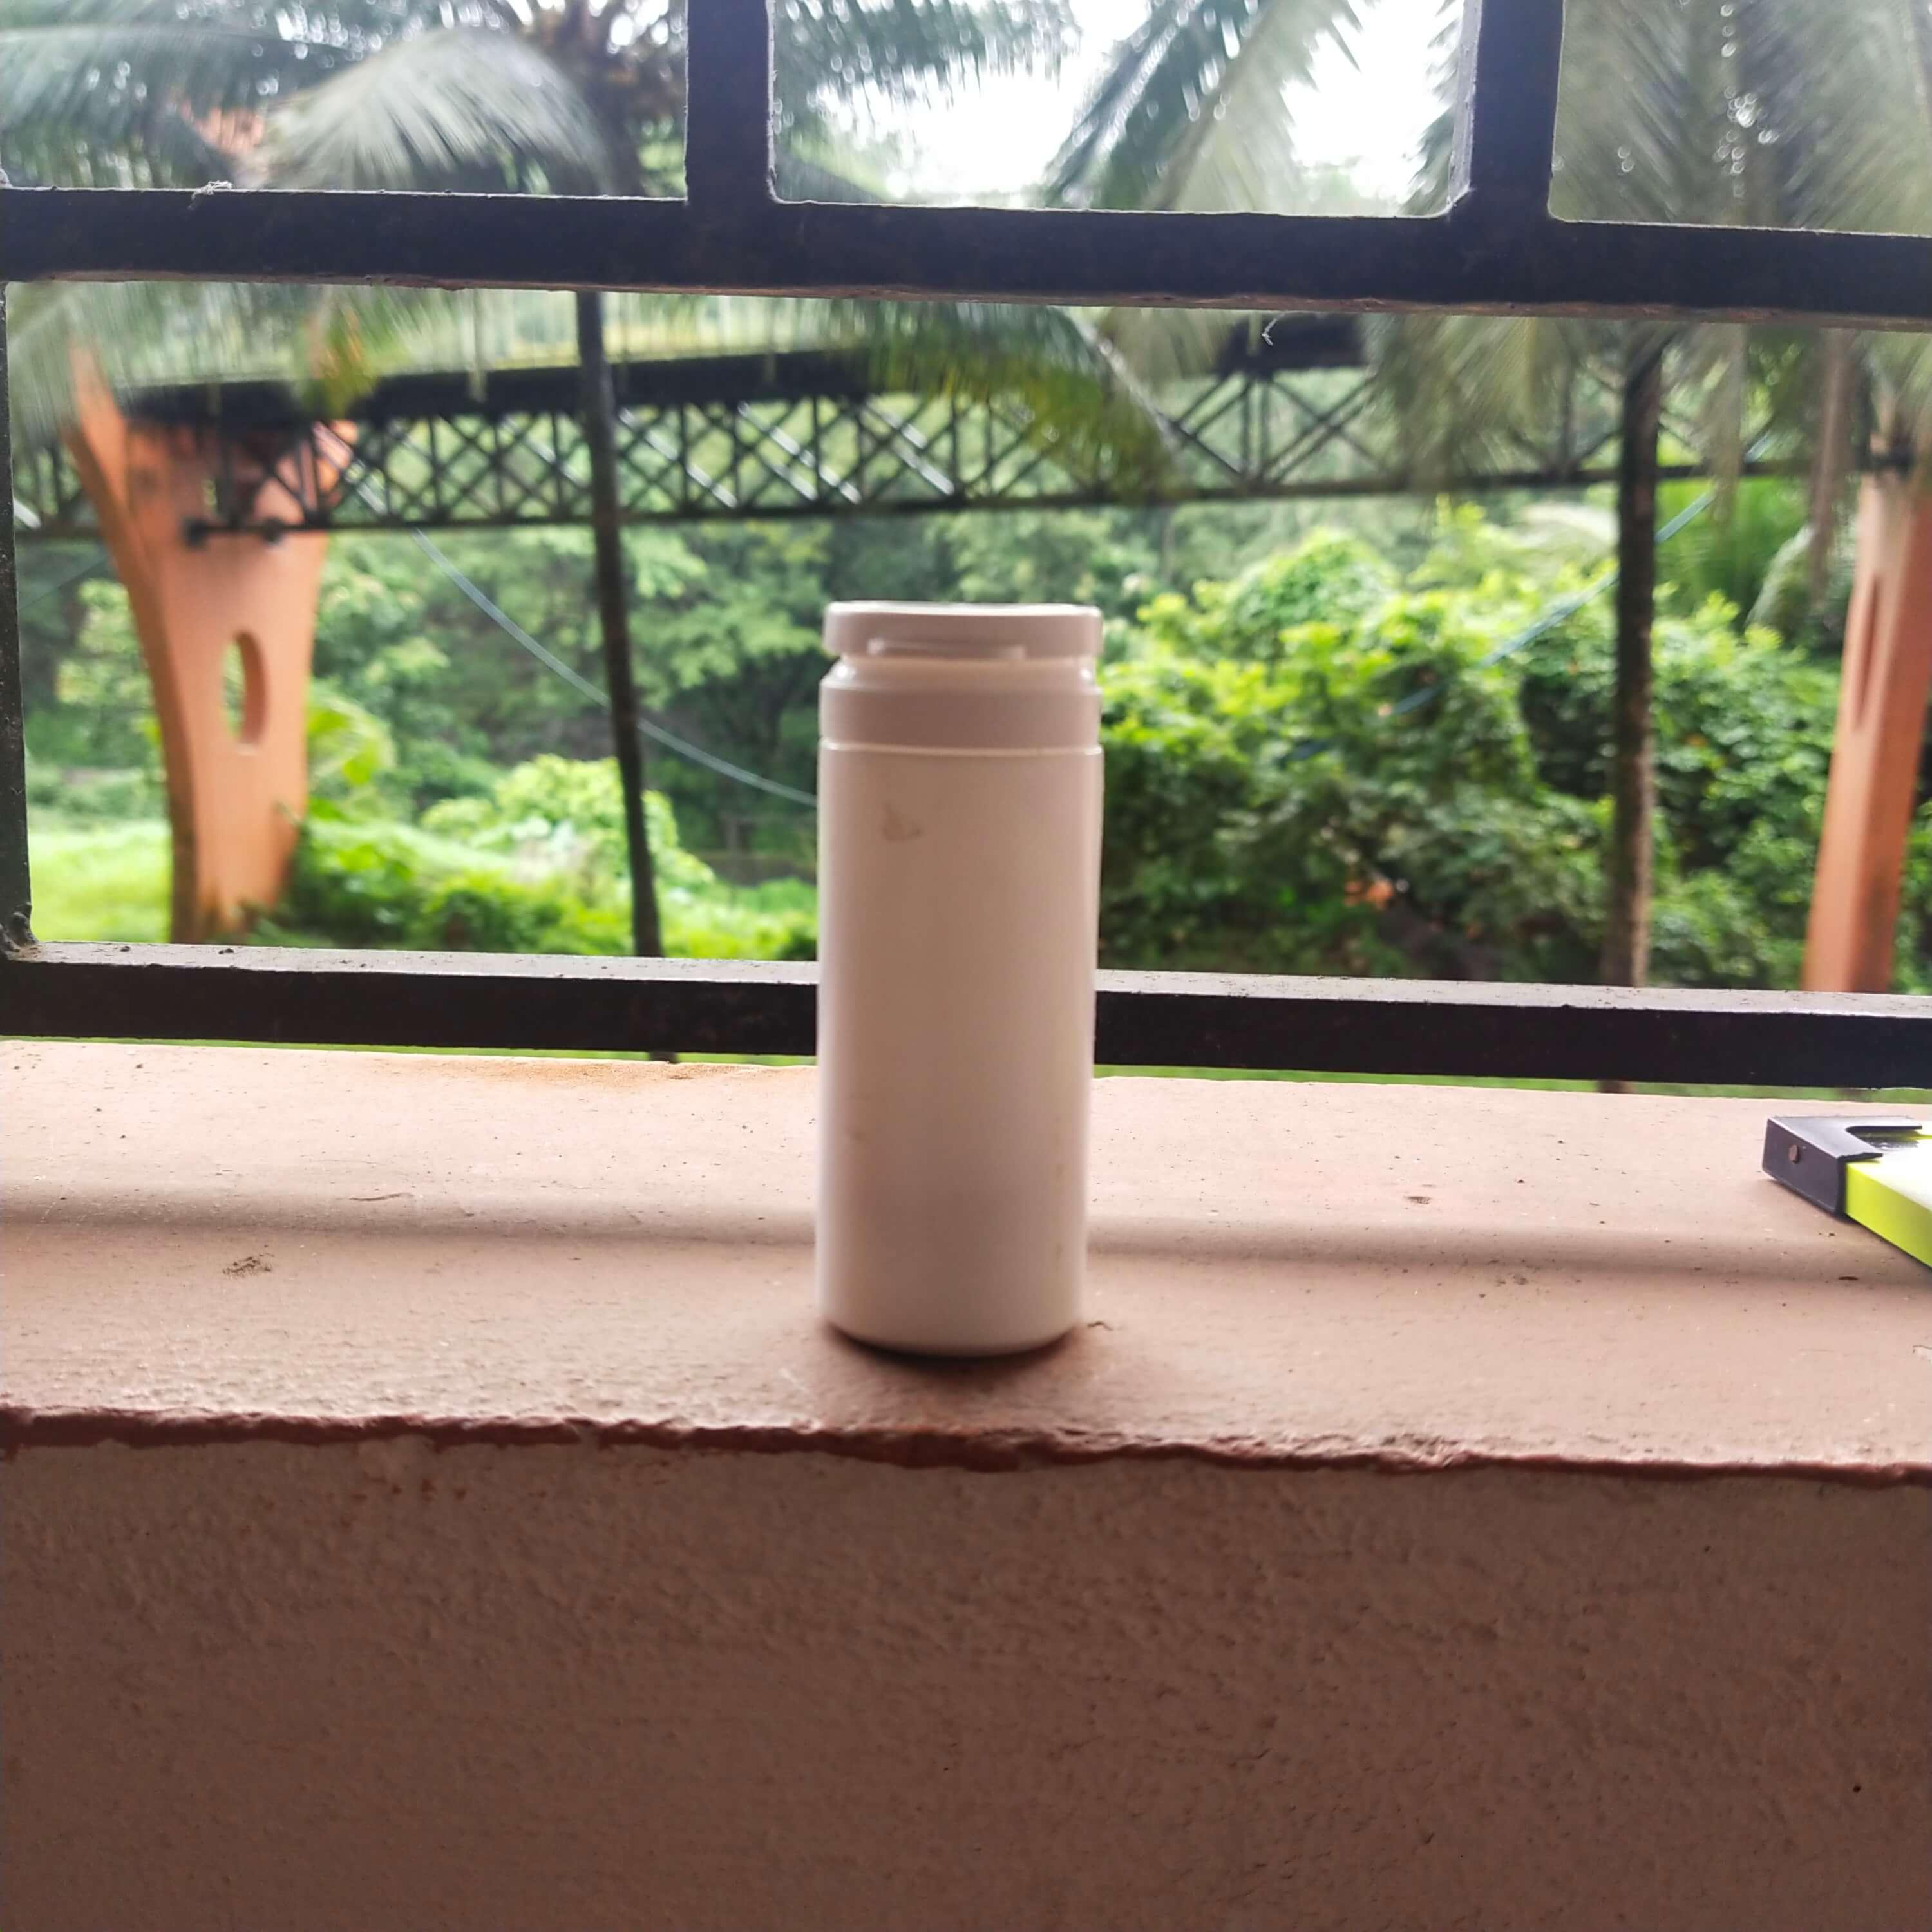plastic box: (777, 577, 1150, 1375)
